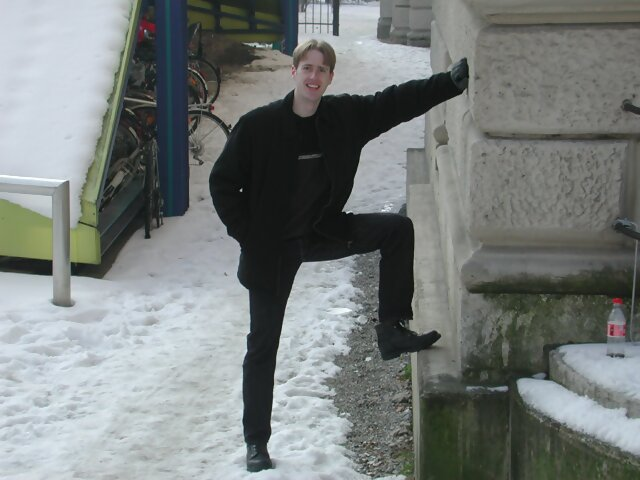person: (212, 37, 467, 472)
